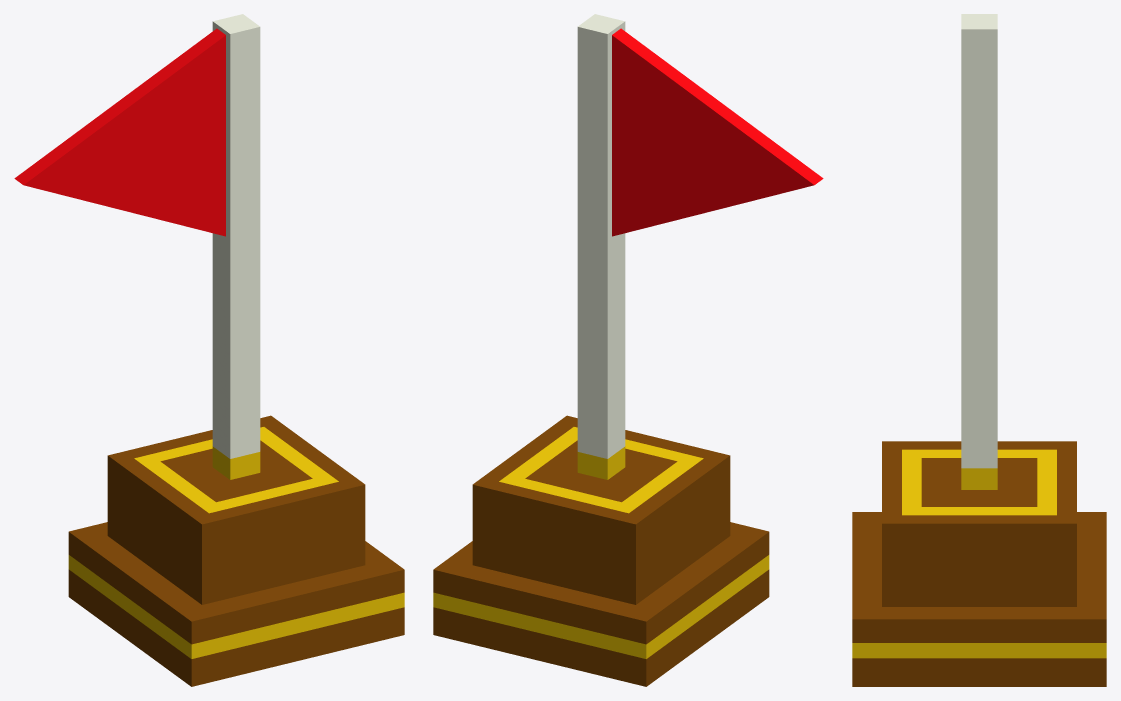
Rendered from miniflag.fbx.
The picture shows the model from 3 angles, left to right: view 1: azimuth 30°, elevation 25°; view 2: azimuth 150°, elevation 25°; view 3: azimuth 270°, elevation 25°; orthographic projection. The views are drawn at different scales.
Parts seen in each view (by area): view 1: Cube; view 2: Cube; view 3: Cube.
Boxes of the visible parts, x1,y1,x2,y2 form: Cube: [14, 14, 404, 686]; Cube: [433, 14, 823, 686]; Cube: [852, 14, 1106, 686].
Size of the model in its own units: 304 by 531 by 200.
